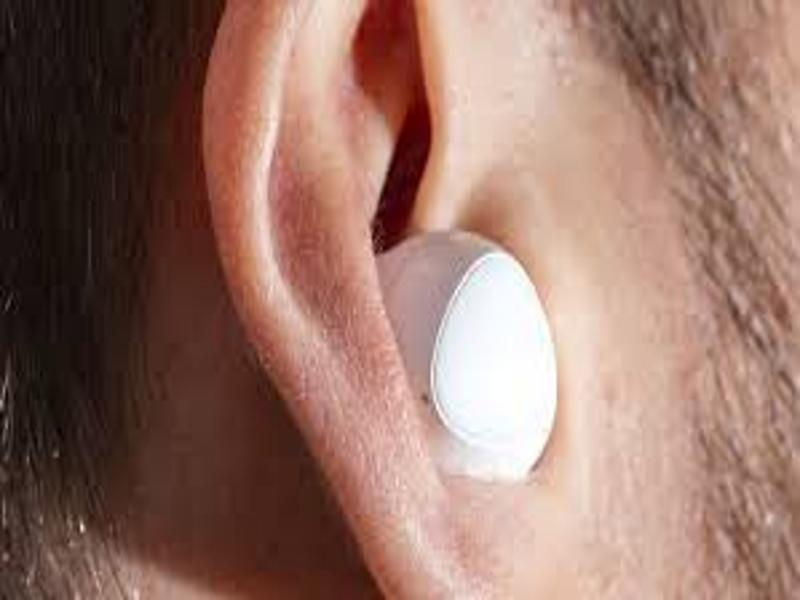headphone: (366, 226, 561, 486)
